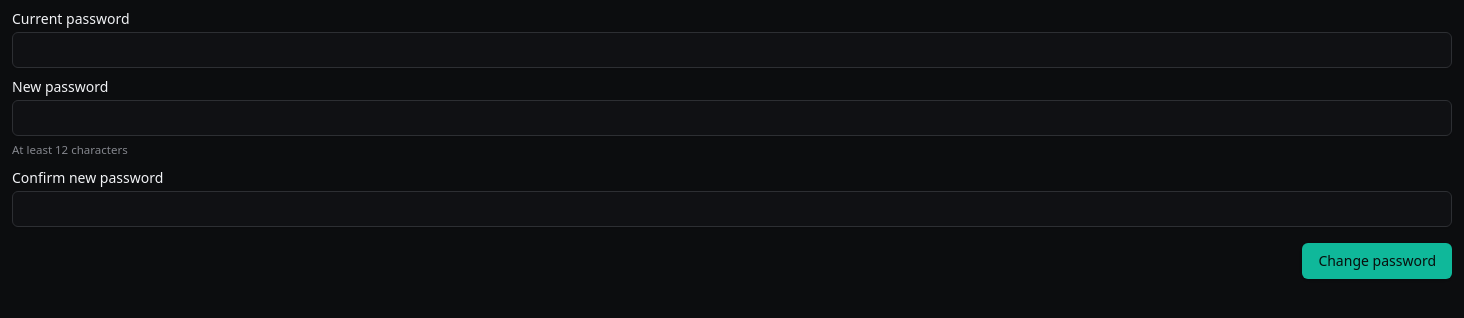
Test: <ChangePasswordForm /> › shows interpolated min-length number in the error (B-34 regression)
Type "current-x" into the password field with id "cp-current" at (732, 50), box [12,32,1452,68]
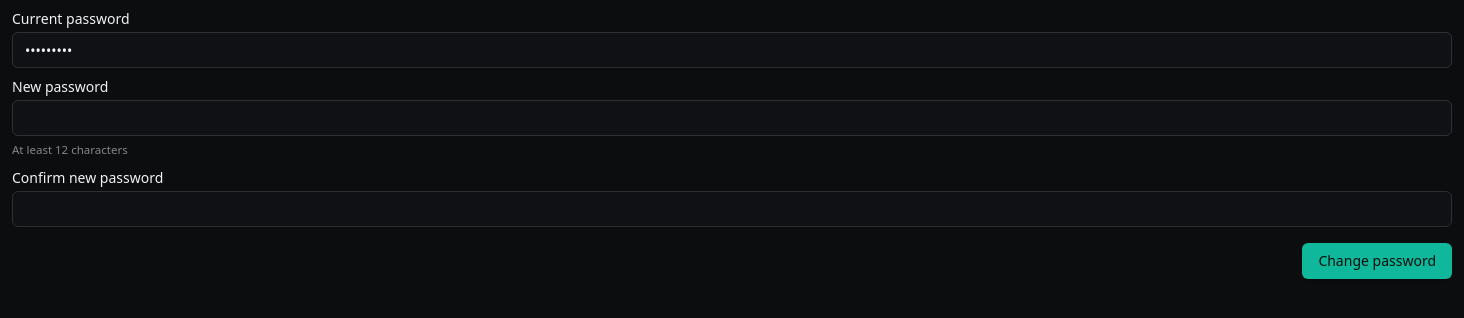
Type "short" into the password field with id "cp-new" at (732, 118), box [12,100,1452,136]
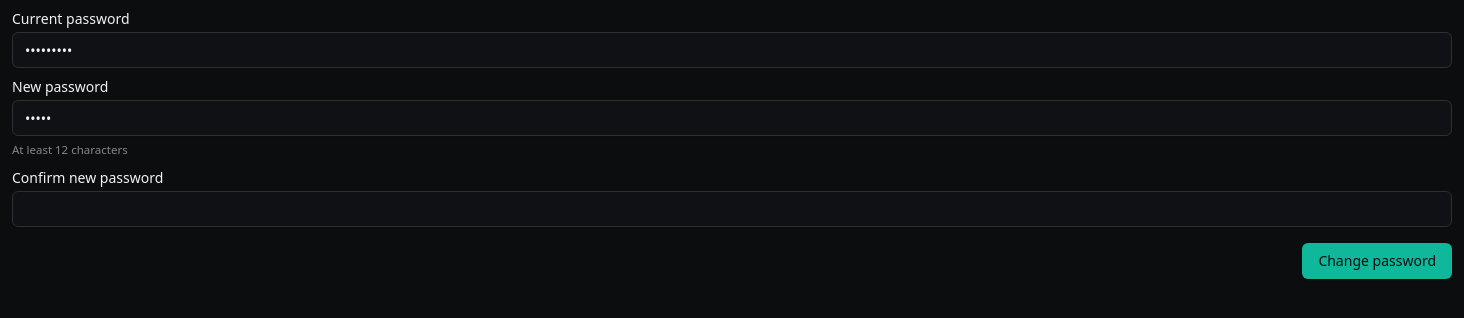
Type "short" into the password field with id "cp-confirm" at (732, 209), box [12,191,1452,227]
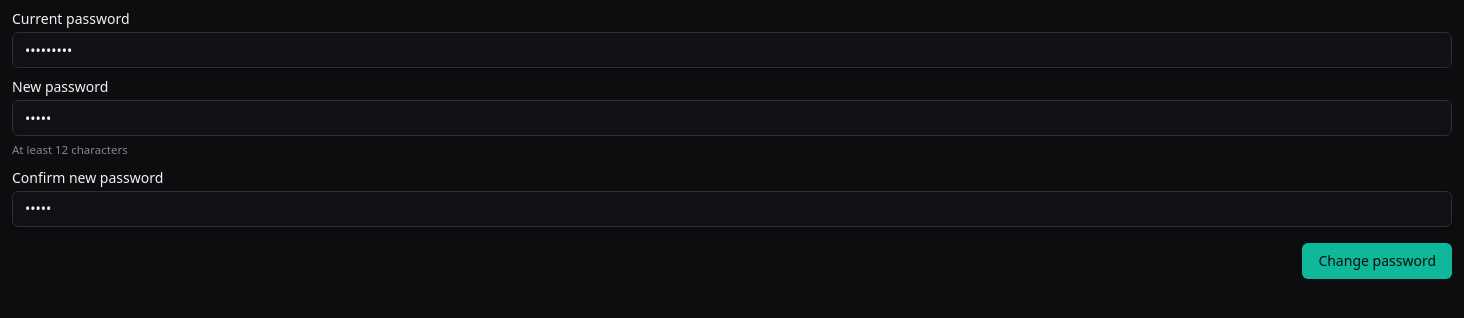
Click the button with test id "change-password-submit" at (1377, 261), box [1302,243,1452,279]
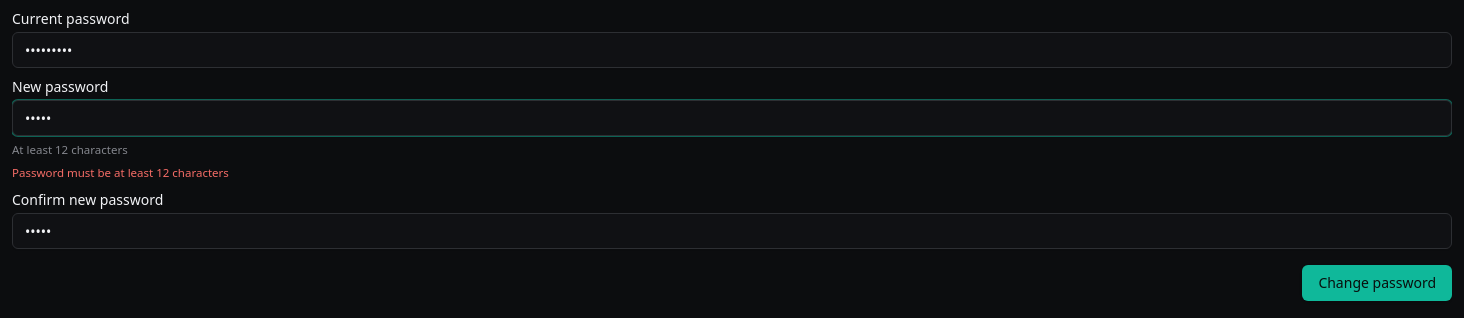
Now the message shows "12", box [12,165,229,180]
